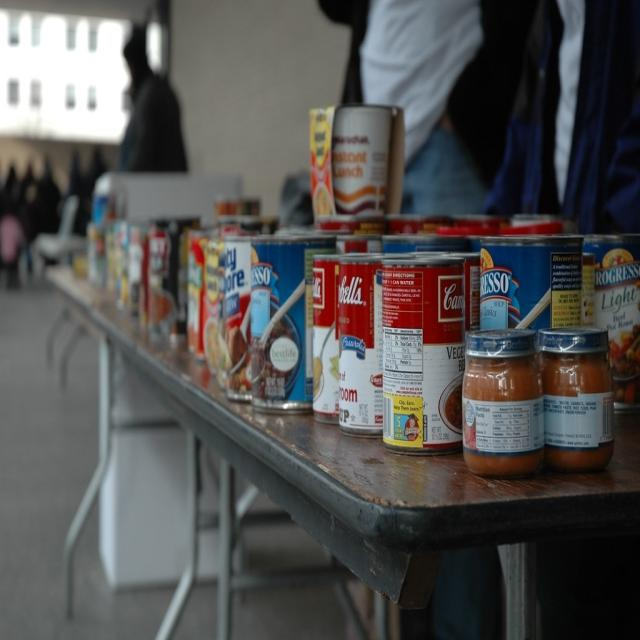can: (51, 97, 640, 475)
